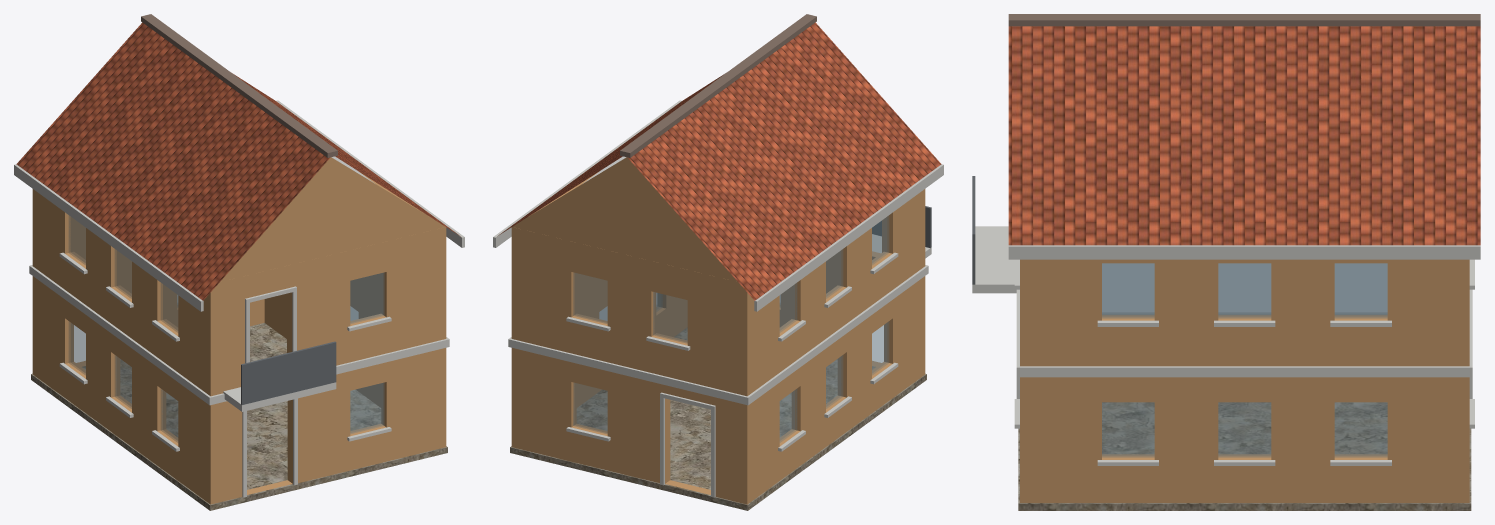
Rendered from cove-house-orange.glass-v3.lod1.glb.
The picture shows the model from 3 angles, left to right: view 1: azimuth 30°, elevation 25°; view 2: azimuth 150°, elevation 25°; view 3: azimuth 270°, elevation 25°; orthographic projection. The views are drawn at different scales.
Parts seen in each view (by area): view 1: cove-house-orange; view 2: cove-house-orange; view 3: cove-house-orange.
Part boxes in pixels (x1=…): cove-house-orange: x1=14, y1=14, x2=464, y2=510; cove-house-orange: x1=493, y1=14, x2=943, y2=510; cove-house-orange: x1=972, y1=14, x2=1480, y2=510.
Size of the model in its own units: 7.28 by 8.78 by 9.61.
4 materials, 2 textured.
